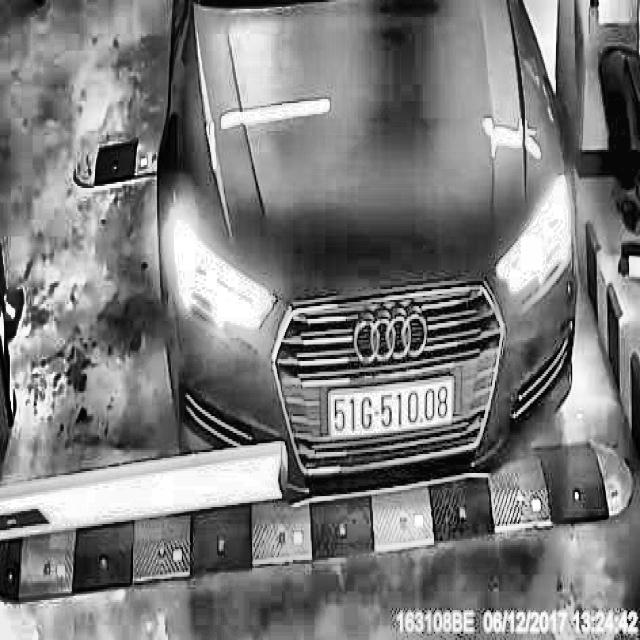plate: (324, 370, 459, 446)
